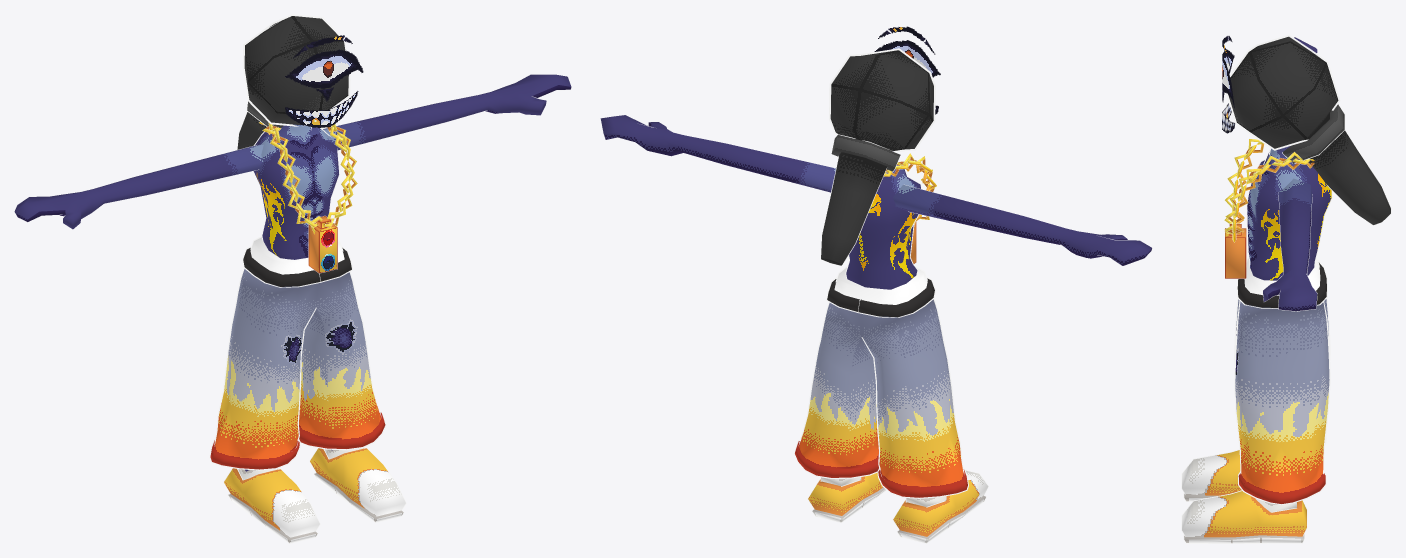
The model's file is Day_Dream.glb.
3 renders of one model, left to right at view 1: azimuth 30°, elevation 25°; view 2: azimuth 150°, elevation 25°; view 3: azimuth 270°, elevation 25°, orthographic.
Parts seen in each view (by area): view 1: Calsas, Braço, Pes, Torso, Microfone_UP, Corrente, Eyes, Object, Moth, Microfone_Back; view 2: Calsas, Braço, Microfone_UP, Pes, Microfone_Back, Torso, Eyes, Corrente; view 3: Calsas, Microfone_UP, Pes, Torso, Microfone_Back, Braço, Corrente, Object, Eyes.
Boxes of the visible parts, x1,y1,x2,y2 form: Calsas: (209, 236, 386, 470); Braço: (14, 74, 571, 229); Pes: (223, 447, 406, 543); Torso: (253, 124, 339, 259); Microfone_UP: (242, 14, 350, 126); Corrente: (259, 122, 357, 234); Eyes: (285, 35, 363, 101); Object: (308, 215, 337, 273); Moth: (285, 91, 358, 127); Microfone_Back: (237, 101, 283, 149); Calsas: (794, 265, 968, 498); Braço: (600, 114, 1152, 266); Microfone_UP: (829, 48, 935, 152); Pes: (807, 470, 988, 543); Microfone_Back: (820, 134, 900, 266); Torso: (845, 151, 921, 289); Eyes: (874, 26, 940, 77); Corrente: (883, 153, 936, 224); Calsas: (1234, 257, 1330, 504); Microfone_UP: (1226, 34, 1340, 150); Pes: (1181, 449, 1307, 543); Torso: (1246, 146, 1332, 280); Microfone_Back: (1282, 104, 1391, 225); Braço: (1262, 37, 1317, 311); Corrente: (1224, 138, 1314, 242); Object: (1225, 223, 1246, 278); Eyes: (1222, 36, 1234, 108).
Size of the model in its own units: 21.19 by 17.79 by 6.99.
7 materials, 6 textured.
